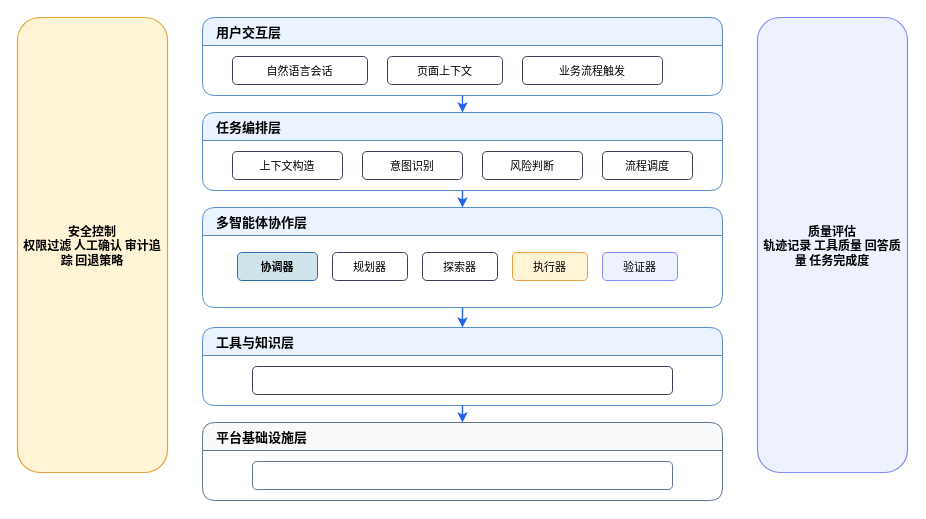
This 926x519 diagram has some shape labels left out. Here are the shapes that lost their labels. From the top down, the centre of each, then its label:
(462,380): 工具声明 角色过滤 执行适配 证据压缩
(462,475): 作业 队列 镜像 指标 存储 网络 审计
